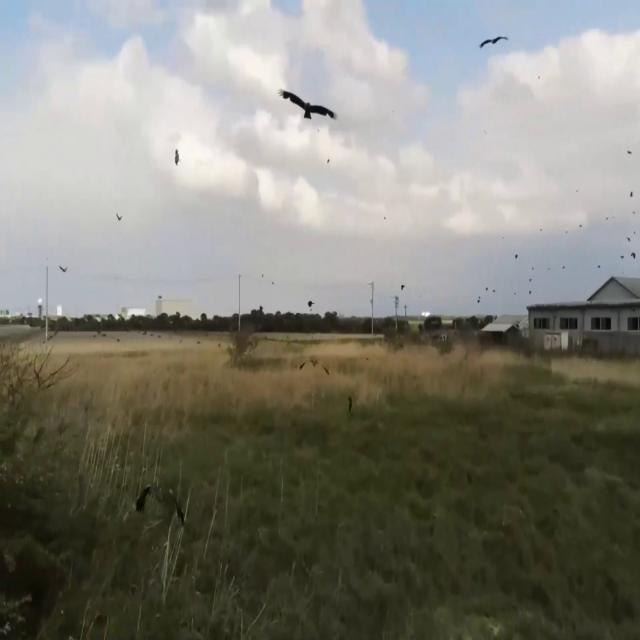bird: (277, 57, 335, 147), (136, 469, 188, 534), (287, 75, 325, 133), (479, 18, 509, 69), (58, 256, 69, 282), (116, 206, 122, 230)
